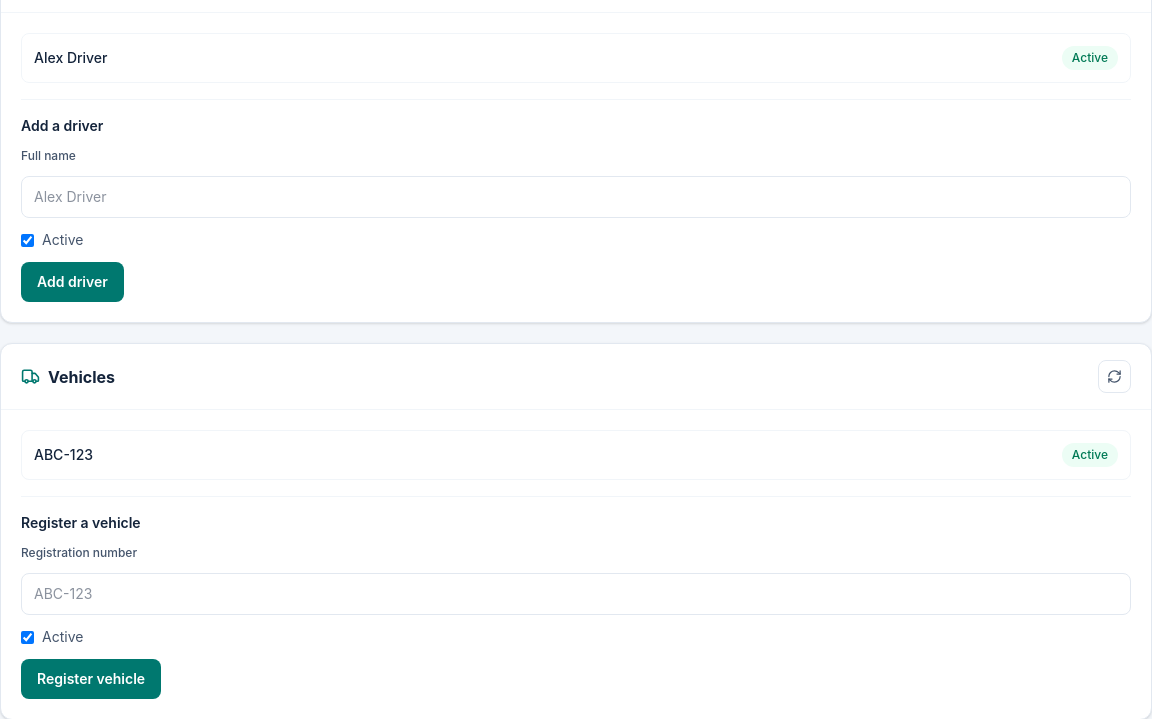
Test: FleetManagementPage › registers a vehicle and refreshes the vehicle list
This screenshot has width=1152, height=719.
(page scrolled)
Check: the text "ABC-123" is shown, box x1=34 y1=445 x2=93 y2=465
Type " ALT-026 " into the field labelled "Registration number".
click(576, 594); type(" ALT-026 ")  # box x1=21 y1=573 x2=1131 y2=615
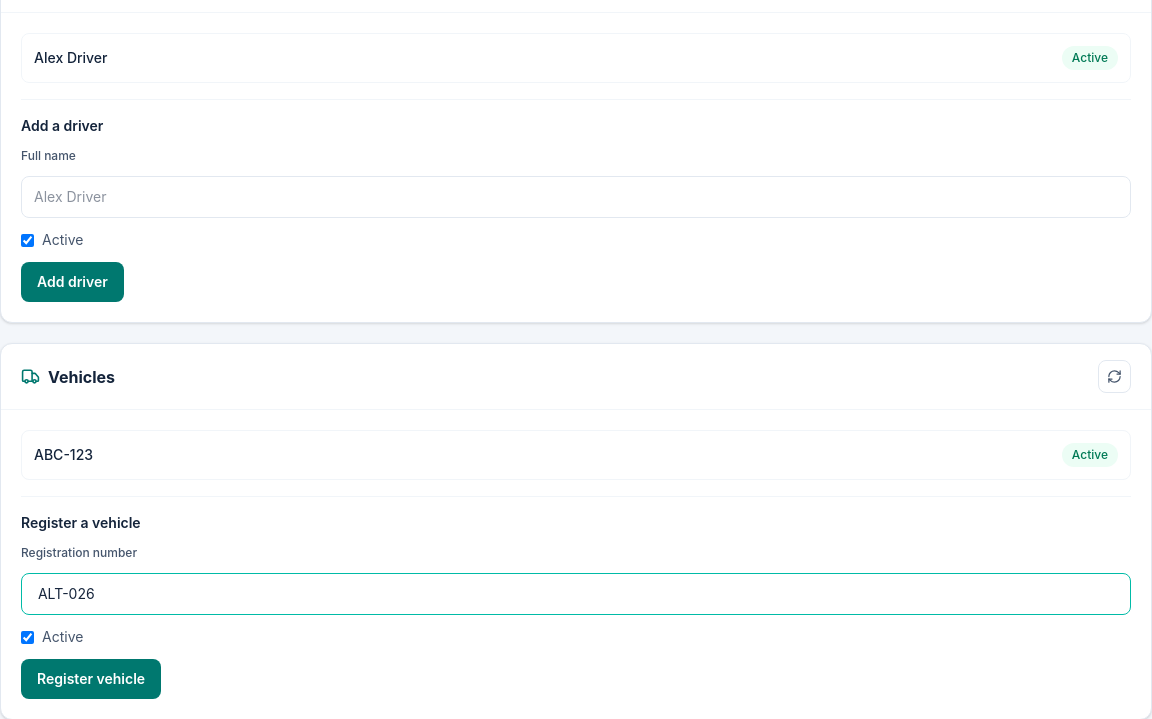
Click the button "Register vehicle".
click(91, 679)  # box x1=21 y1=659 x2=161 y2=699
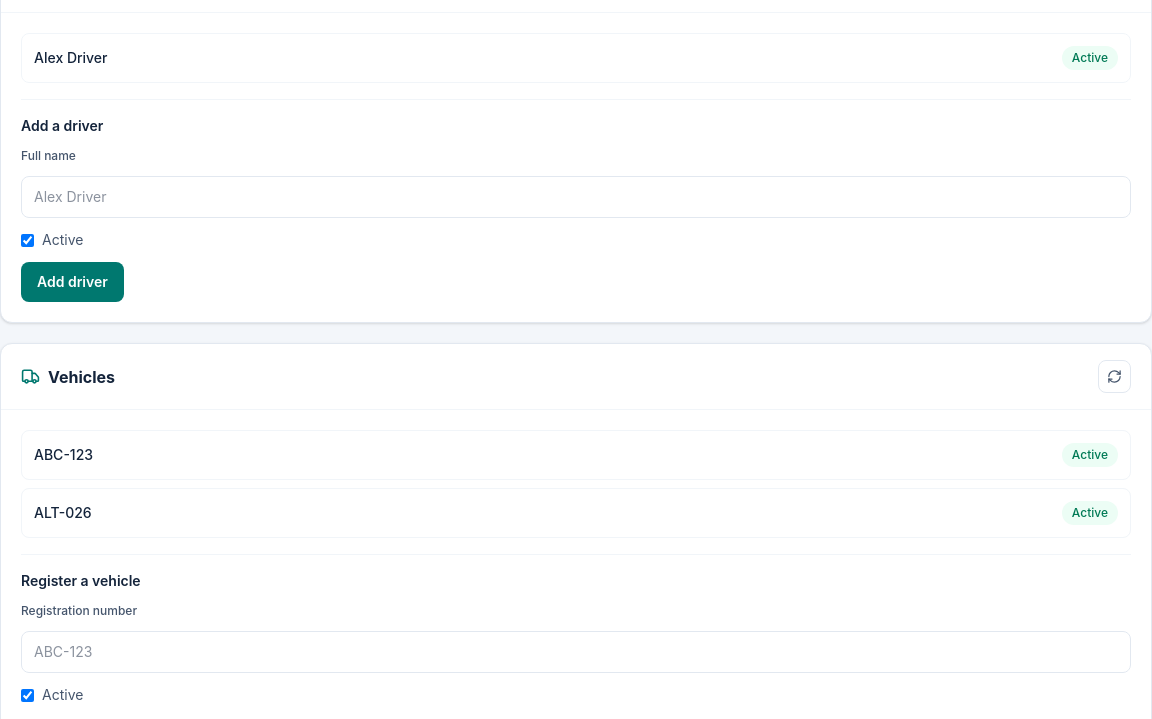
Check: the text "ALT-026" is shown, box x1=34 y1=503 x2=92 y2=523
Check: the field labelled "Registration number" is empty, box x1=21 y1=631 x2=1131 y2=673
